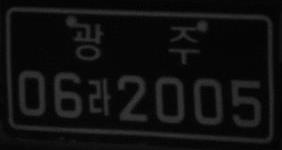0: (192, 76, 223, 126), (154, 76, 185, 125), (17, 68, 47, 117)
2: (115, 73, 149, 122)
5: (229, 78, 262, 128)
6: (52, 70, 83, 118)
광주_D: (71, 20, 202, 66)
라: (87, 77, 111, 116)
